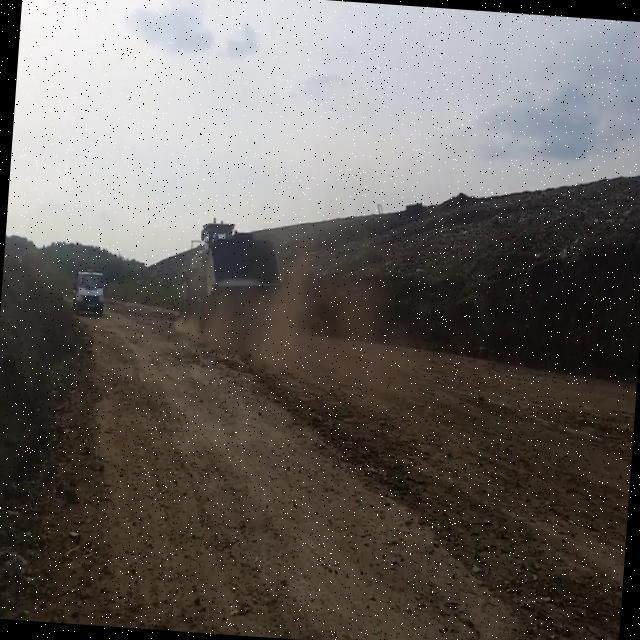Dump Truck: (72, 271, 106, 314)
Loader: (176, 216, 284, 338)
